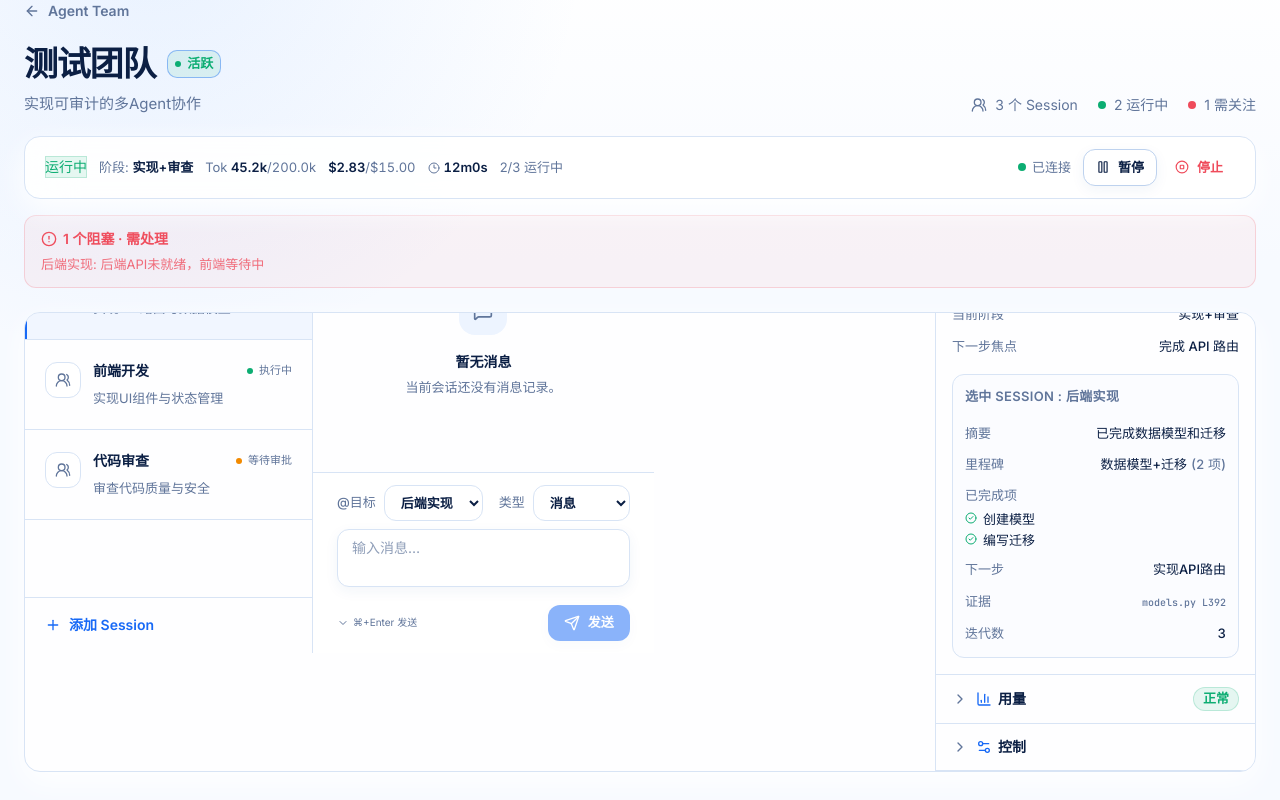
Scenario: Team Observatory E2E › Scenario 7: TeamInspector integration › usage section shows detailed metrics when expanded
(page scrolled)
Expected: the heading "测试团队" is shown, left=24, top=44, right=155, bottom=84
Expand first "用量" section
Click the text "用量" at (1001, 699), box left=976, top=688, right=1026, bottom=710
(page scrolled)
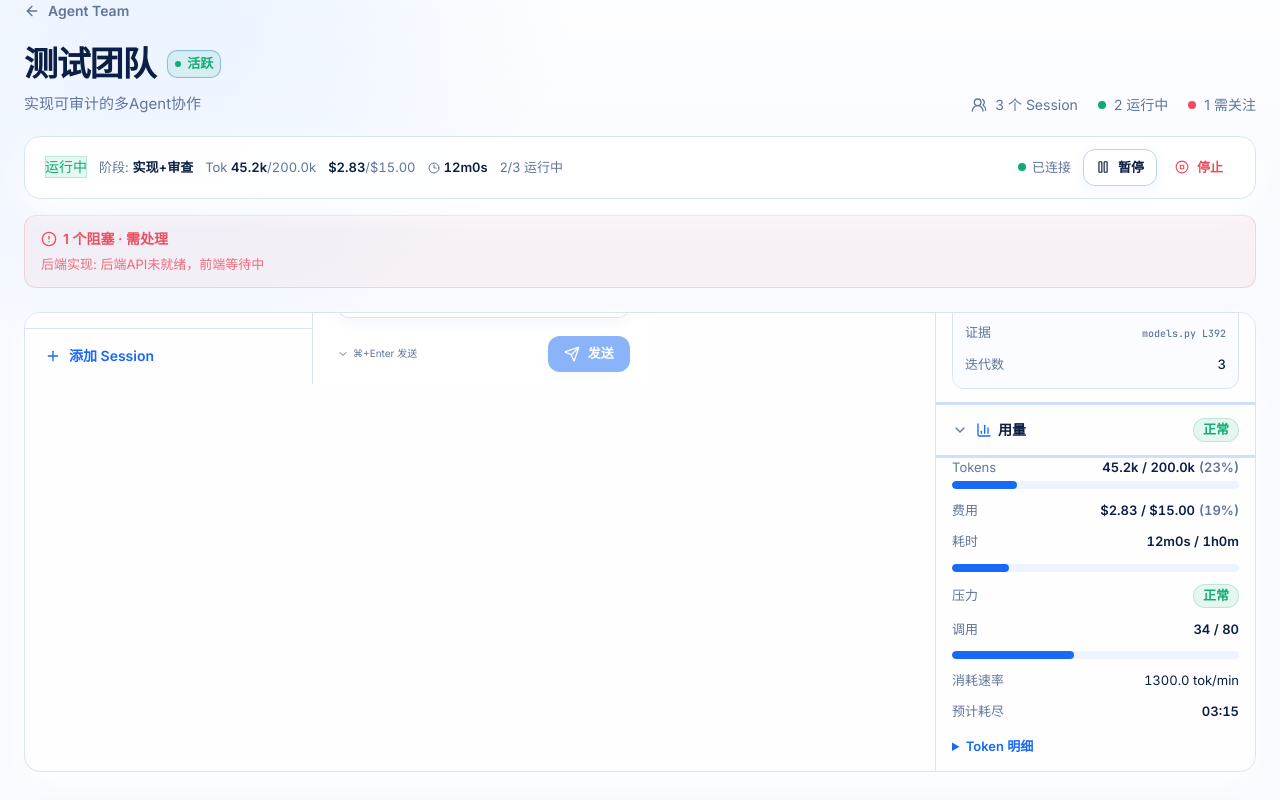
Expected: the text "Tokens" is shown, left=952, top=458, right=996, bottom=477
Expected: the text "费用" is shown, left=952, top=501, right=978, bottom=520
Expected: the text "耗时" is shown, left=952, top=532, right=978, bottom=552
